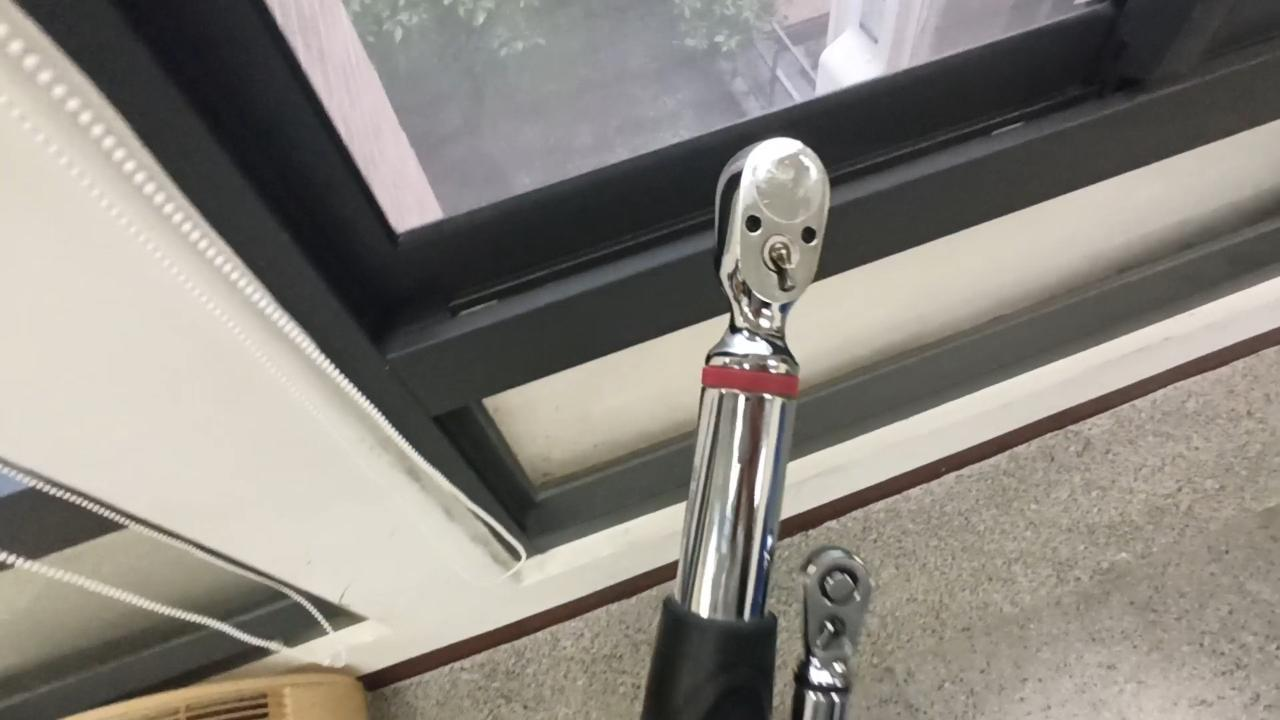Tool: (714, 132, 830, 369), (804, 548, 868, 674)
